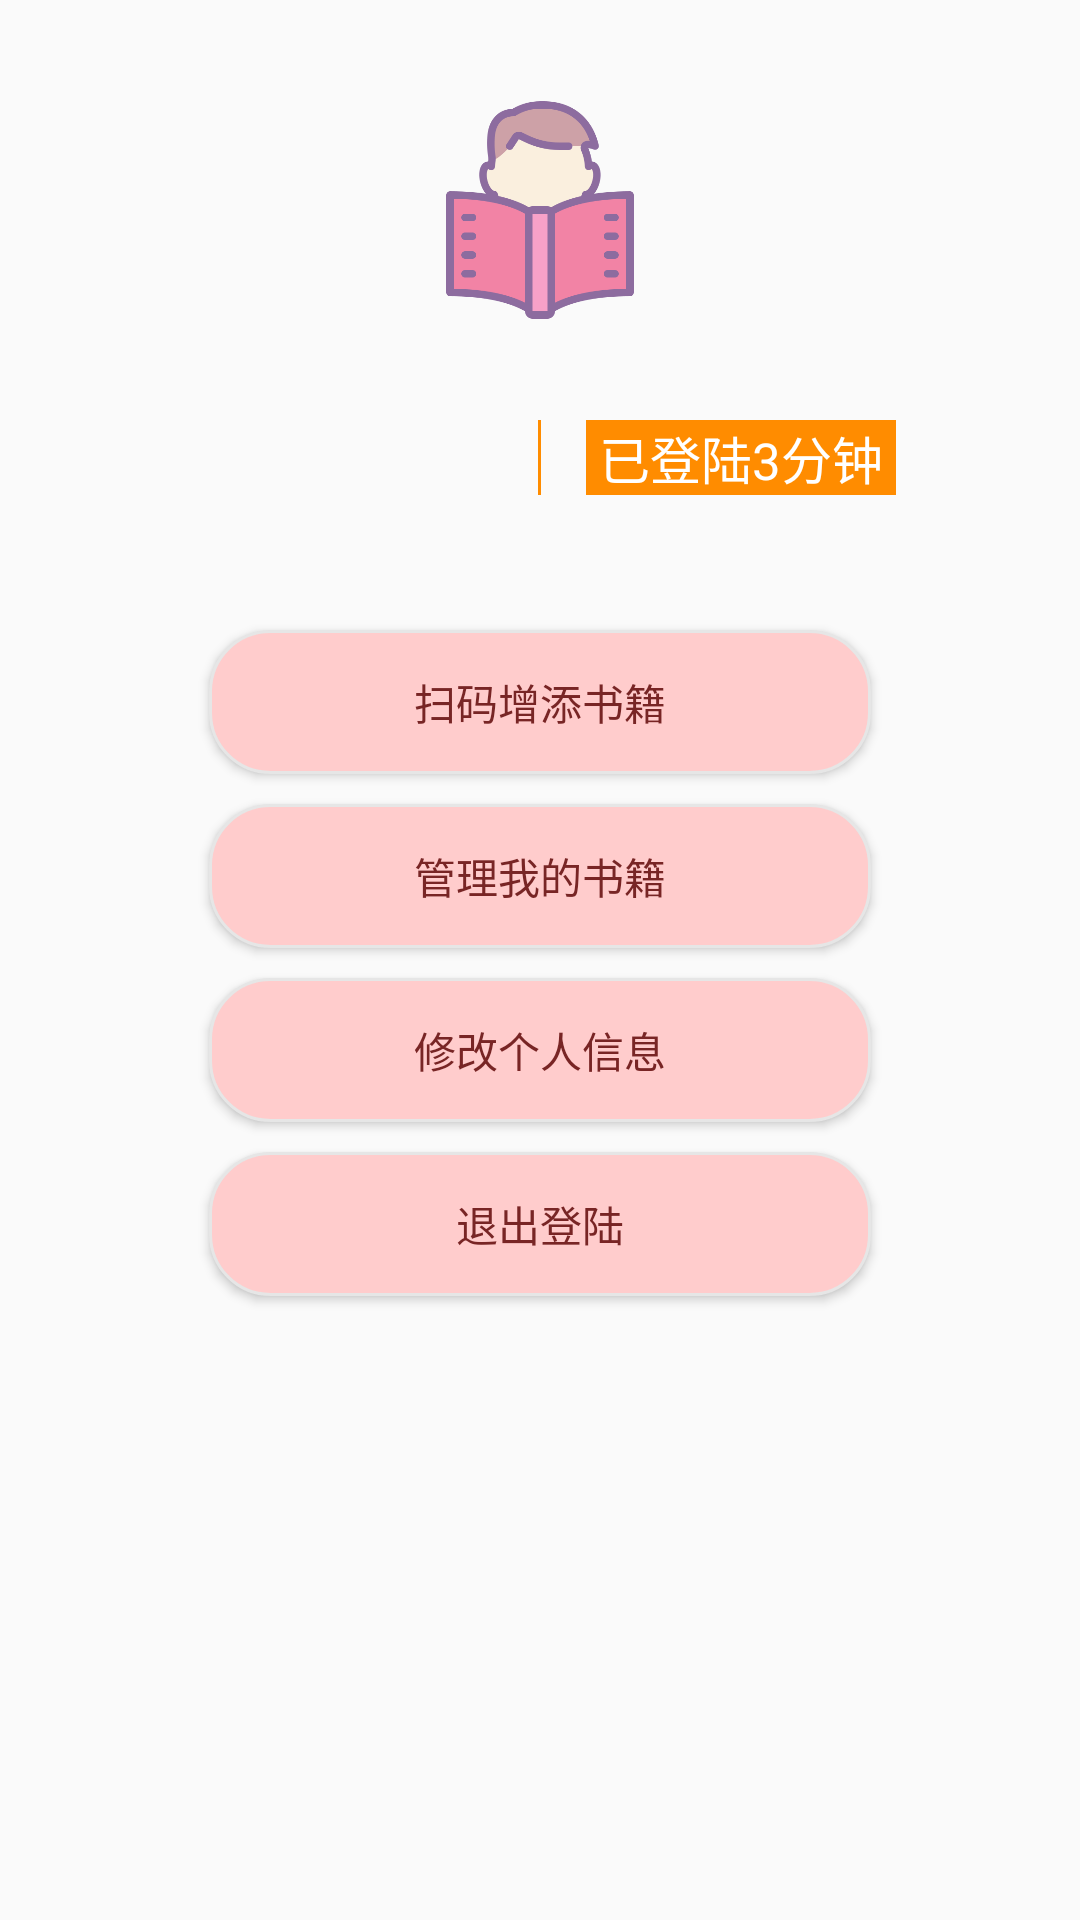

Where icons sit on this 1080×1920 app screen, as (x1, y1, x2, y2):
reading: (446, 101, 634, 319)
